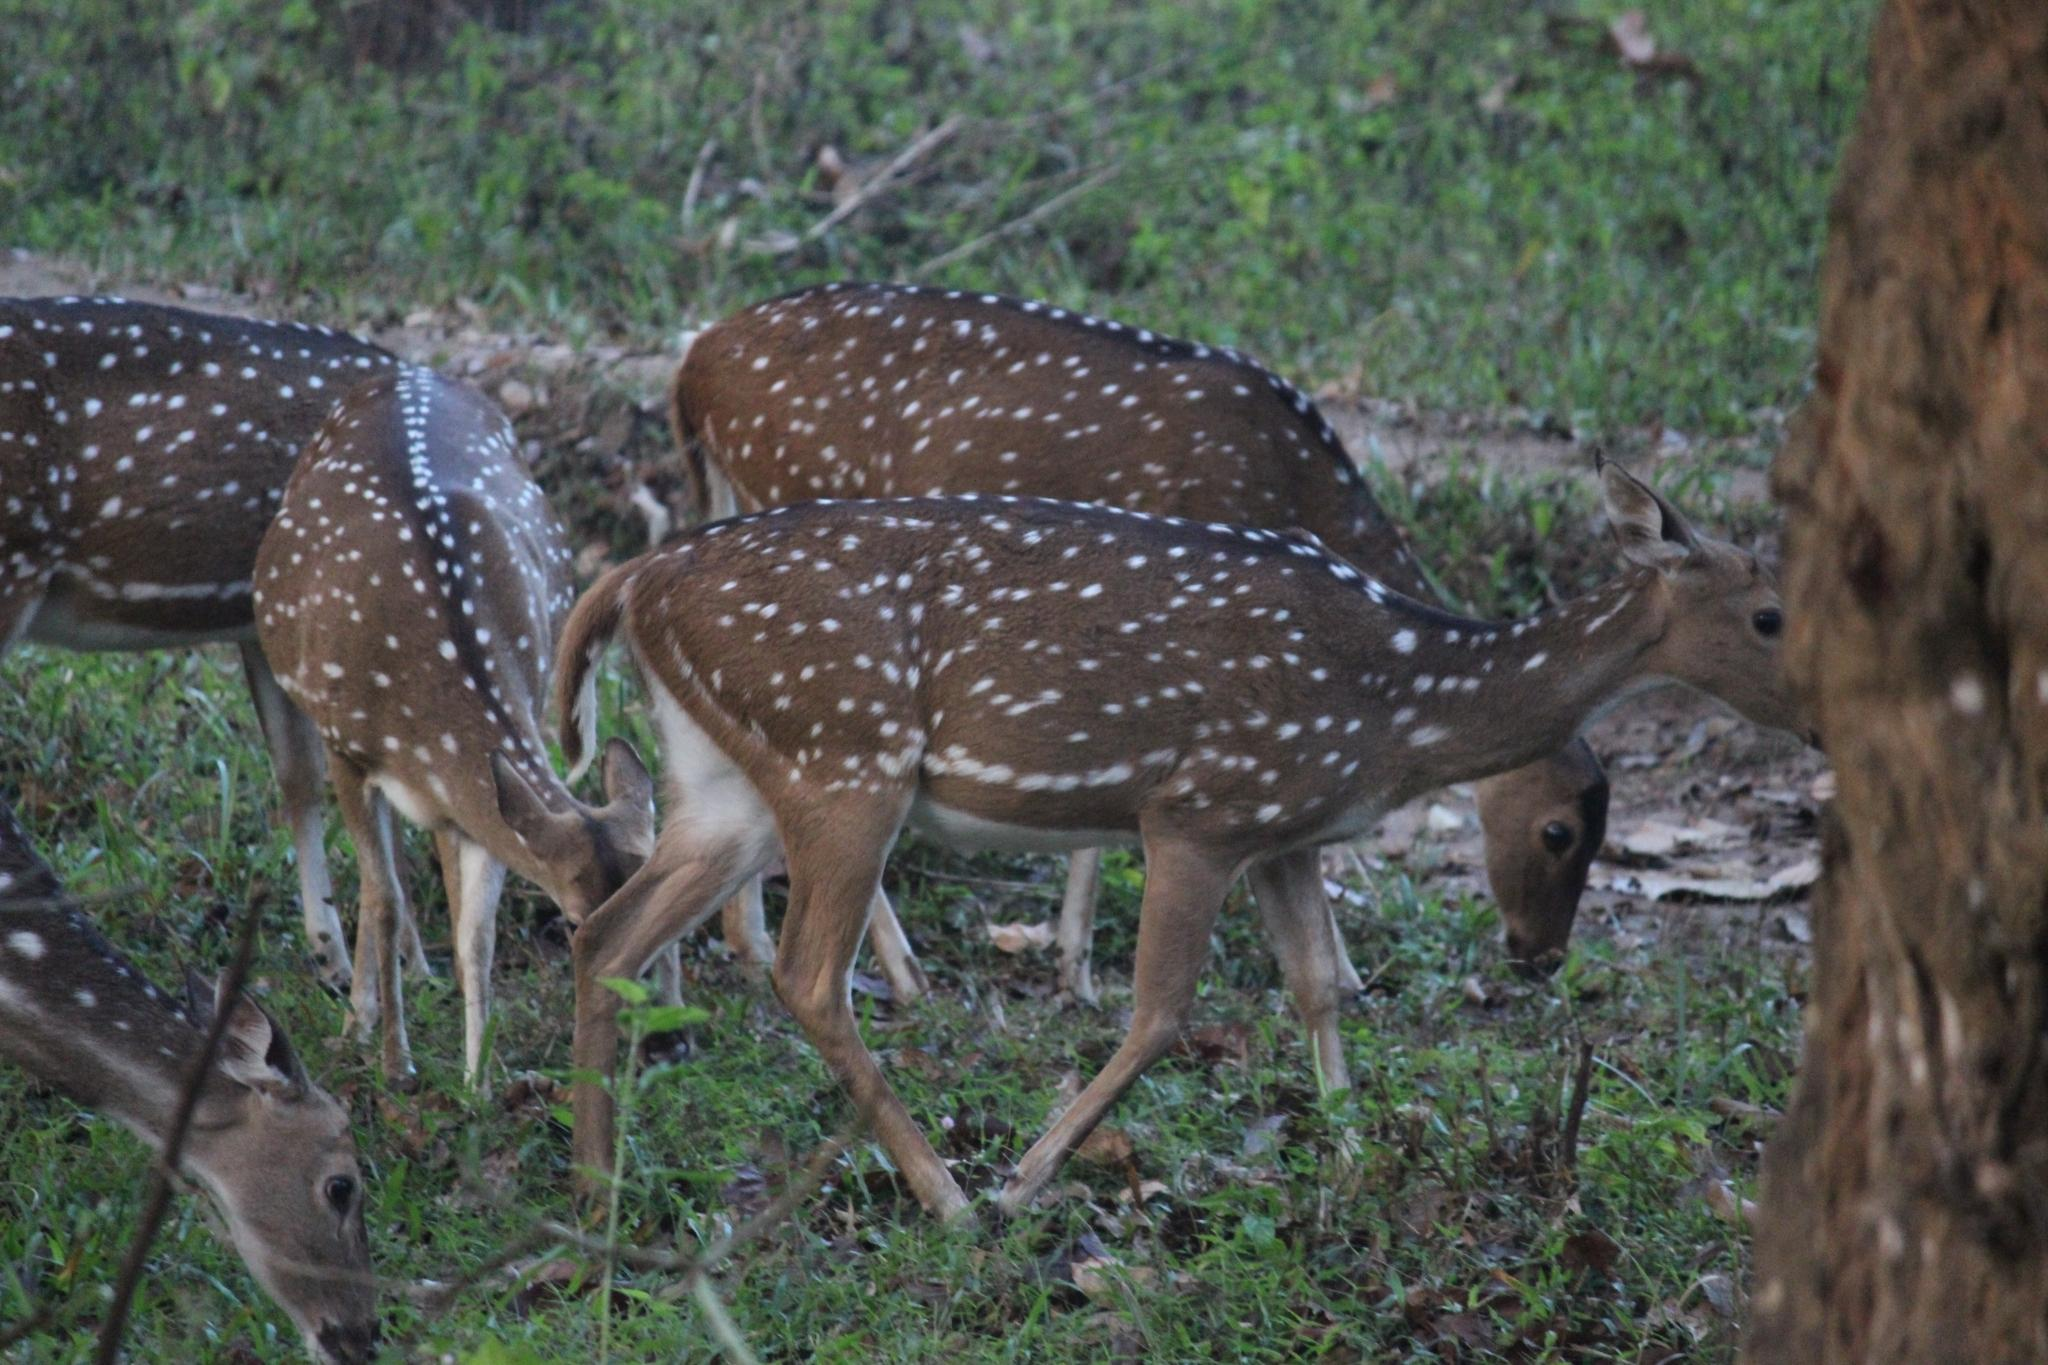Deer: (554, 466, 1804, 1219), (254, 367, 653, 1080), (672, 283, 1437, 597)
